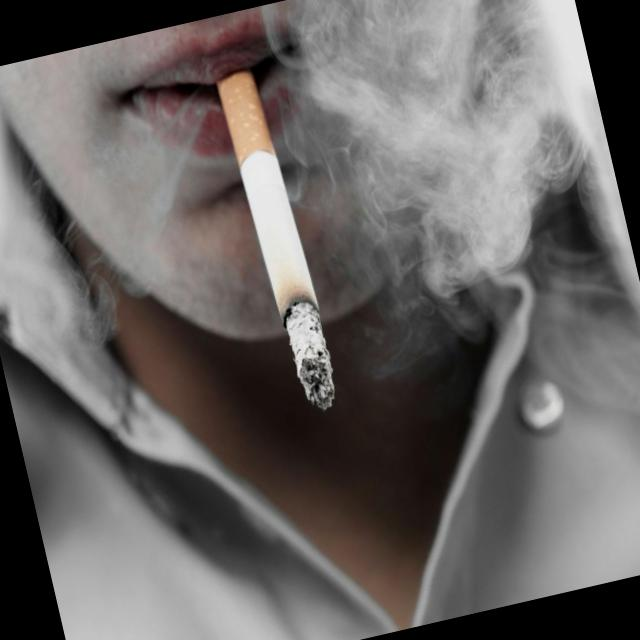cigarette: (209, 63, 346, 424)
